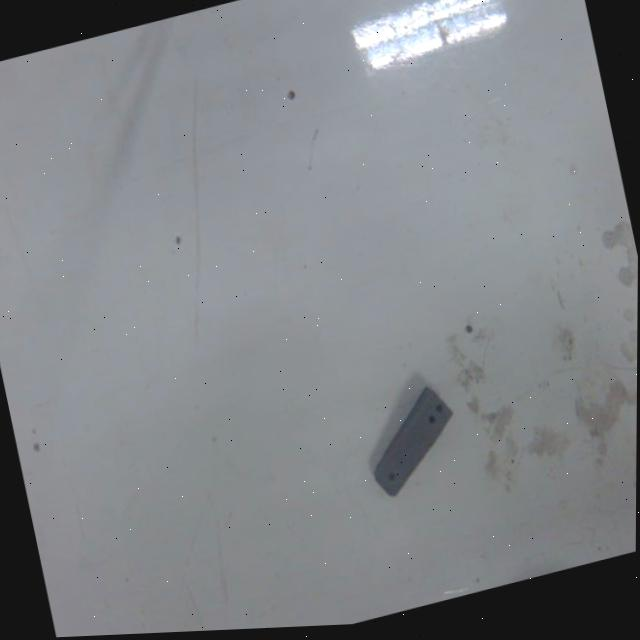grey: (354, 377, 467, 505)
head: (384, 467, 399, 486)
